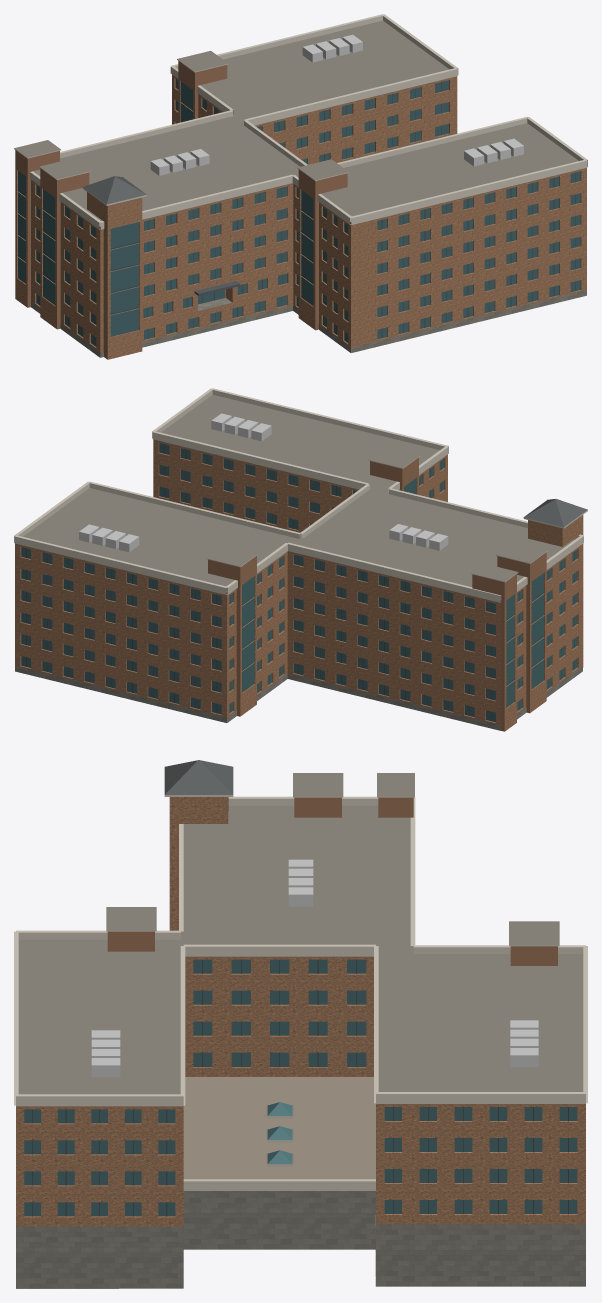
3 renders of one model, top to bottom at view 1: azimuth 30°, elevation 25°; view 2: azimuth 150°, elevation 25°; view 3: azimuth 270°, elevation 25°, orthographic. The views are drawn at different scales.
Visible parts, largest first — view 1: business__wall, business__roof, business__glass, business__trim, business__wall2, business__base, business__roofMetal, business__frame, business__roofAccent; view 2: business__wall, business__roof, business__glass, business__trim, business__wall2, business__base, business__roofMetal, business__frame, business__roofAccent; view 3: business__roof, business__wall, business__base, business__deck, business__trim, business__glass, business__roofMetal, business__wall2, business__roofAccent, business__frame, business__roofGlass.
Boxes of the visible parts, x1,y1,x2,y2 form: business__wall: (15, 74, 586, 359); business__roof: (14, 20, 578, 226); business__glass: (18, 79, 580, 346); business__trim: (14, 14, 587, 229); business__wall2: (15, 61, 347, 330); business__base: (31, 290, 586, 357); business__roofMetal: (150, 34, 523, 175); business__frame: (17, 80, 575, 345); business__roofAccent: (83, 176, 146, 204); business__wall: (15, 439, 583, 731); business__roof: (23, 395, 574, 599); business__glass: (21, 443, 577, 722); business__trim: (14, 388, 587, 602); business__wall2: (208, 457, 546, 731); business__base: (15, 666, 582, 730); business__roofMetal: (79, 413, 448, 552); business__frame: (26, 444, 574, 720); business__roofAccent: (524, 499, 587, 526); business__roof: (16, 773, 583, 1288); business__wall: (16, 797, 585, 1276); business__base: (16, 1191, 585, 1288); business__deck: (183, 1077, 375, 1223); business__trim: (14, 795, 587, 1190); business__glass: (24, 959, 577, 1216); business__roofMetal: (91, 859, 538, 1077); business__wall2: (107, 797, 557, 965); business__roofAccent: (164, 760, 233, 794); business__frame: (32, 959, 568, 1216); business__roofGlass: (267, 1102, 292, 1163).
Bounding box in the file's own units: 75.14 × 28.42 × 60.36.
13 materials, 2 textured.
